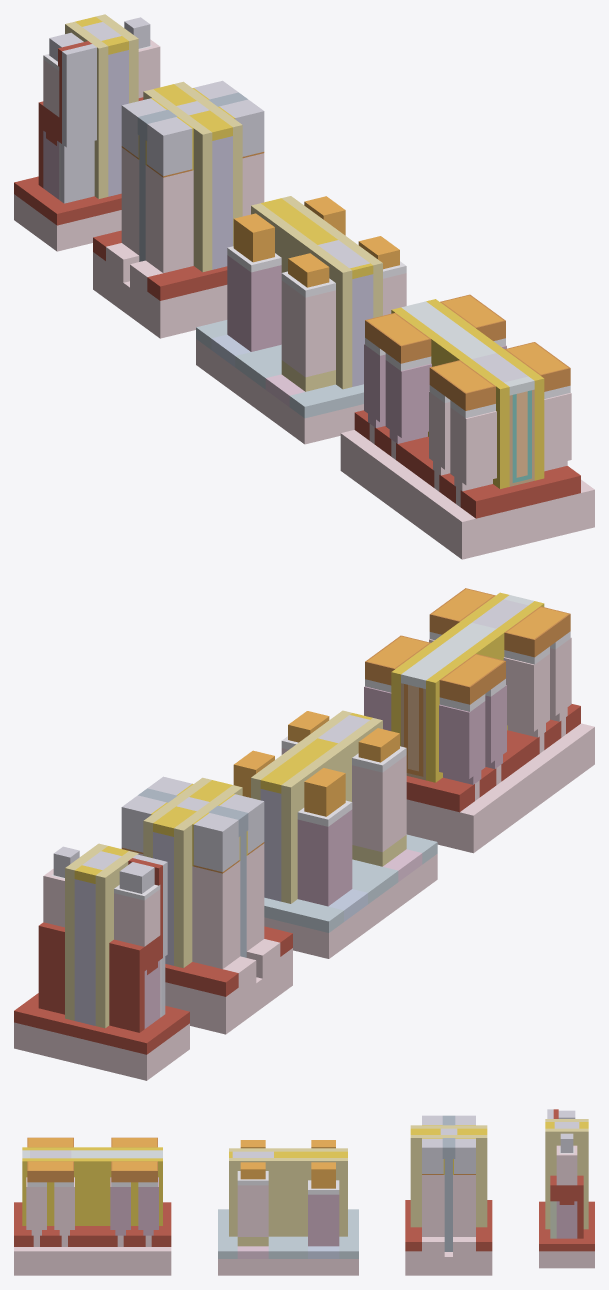
The model's file is cmp.glb.
3 views of the same model, one above another, from view 1: azimuth 30°, elevation 25°; view 2: azimuth 150°, elevation 25°; view 3: azimuth 270°, elevation 25° (orthographic). The views are drawn at different scales.
Visible parts, largest first — view 1: inv_fin_n_substrate, fs_substrate, cfet_mono_ni_lo_source, inv_fin_n_epi_source, inv_fin_p_epi_source, fs_epi_n_source, ns_n_epi_source, ns_p_epi_source, inv_fin_n_sti, fs_spacer_n_source, inv_fin_p_substrate, ns_n_substrate (+48 smaller); view 2: fs_substrate, inv_fin_p_substrate, inv_fin_p_epi_source, inv_fin_n_epi_source, fs_epi_p_source, cfet_mono_substrate, ns_p_epi_source, ns_n_epi_source, cfet_mono_box, cfet_mono_iso_source, cfet_mono_mo, cfet_mono_spacer_source (+51 smaller); view 3: fs_substrate, inv_fin_n_substrate, inv_fin_p_substrate, inv_fin_b_spacers, cfet_mono_spacer_drain, inv_fin_n_epi_drain, inv_fin_p_epi_drain, ns_b_spacers, ns_p_spacer_drain, ns_n_spacer_drain, ns_p_epi_drain, ns_n_epi_drain (+44 smaller).
Boxes of the visible parts, x1,y1,x2,y2 form: inv_fin_n_substrate: [405, 477, 594, 559]; fs_substrate: [93, 243, 227, 338]; cfet_mono_ni_lo_source: [60, 44, 96, 203]; inv_fin_n_epi_source: [429, 391, 496, 491]; inv_fin_p_epi_source: [364, 344, 431, 443]; fs_epi_n_source: [145, 165, 193, 273]; ns_n_epi_source: [281, 280, 335, 377]; ns_p_epi_source: [227, 255, 281, 351]; inv_fin_n_sti: [419, 457, 580, 518]; fs_spacer_n_source: [176, 113, 212, 272]; inv_fin_p_substrate: [340, 430, 410, 511]; ns_n_substrate: [250, 379, 363, 444]; fs_substrate: [165, 939, 292, 1034]; inv_fin_p_substrate: [406, 771, 530, 853]; inv_fin_p_epi_source: [439, 685, 506, 784]; inv_fin_n_epi_source: [503, 637, 571, 737]; fs_epi_p_source: [192, 861, 240, 969]; cfet_mono_substrate: [14, 1022, 189, 1080]; ns_p_epi_source: [297, 809, 352, 906]; ns_n_epi_source: [352, 755, 406, 852]; cfet_mono_box: [14, 993, 189, 1054]; cfet_mono_iso_source: [109, 935, 160, 1032]; cfet_mono_mo: [74, 879, 95, 1025]; cfet_mono_spacer_source: [95, 851, 138, 1028]; fs_substrate: [405, 1237, 492, 1275]; inv_fin_n_substrate: [14, 1247, 87, 1275]; inv_fin_p_substrate: [98, 1247, 171, 1275]; inv_fin_b_spacers: [79, 1147, 106, 1225]; cfet_mono_spacer_drain: [545, 1128, 588, 1229]; inv_fin_n_epi_drain: [26, 1177, 74, 1235]; inv_fin_p_epi_drain: [110, 1177, 158, 1235]; ns_b_spacers: [277, 1148, 299, 1236]; ns_p_spacer_drain: [299, 1158, 347, 1236]; ns_n_spacer_drain: [229, 1158, 277, 1236]; ns_p_epi_drain: [308, 1194, 339, 1246]; ns_n_epi_drain: [237, 1185, 268, 1236].
Size of the model in its own units: 96 by 138 by 561.
